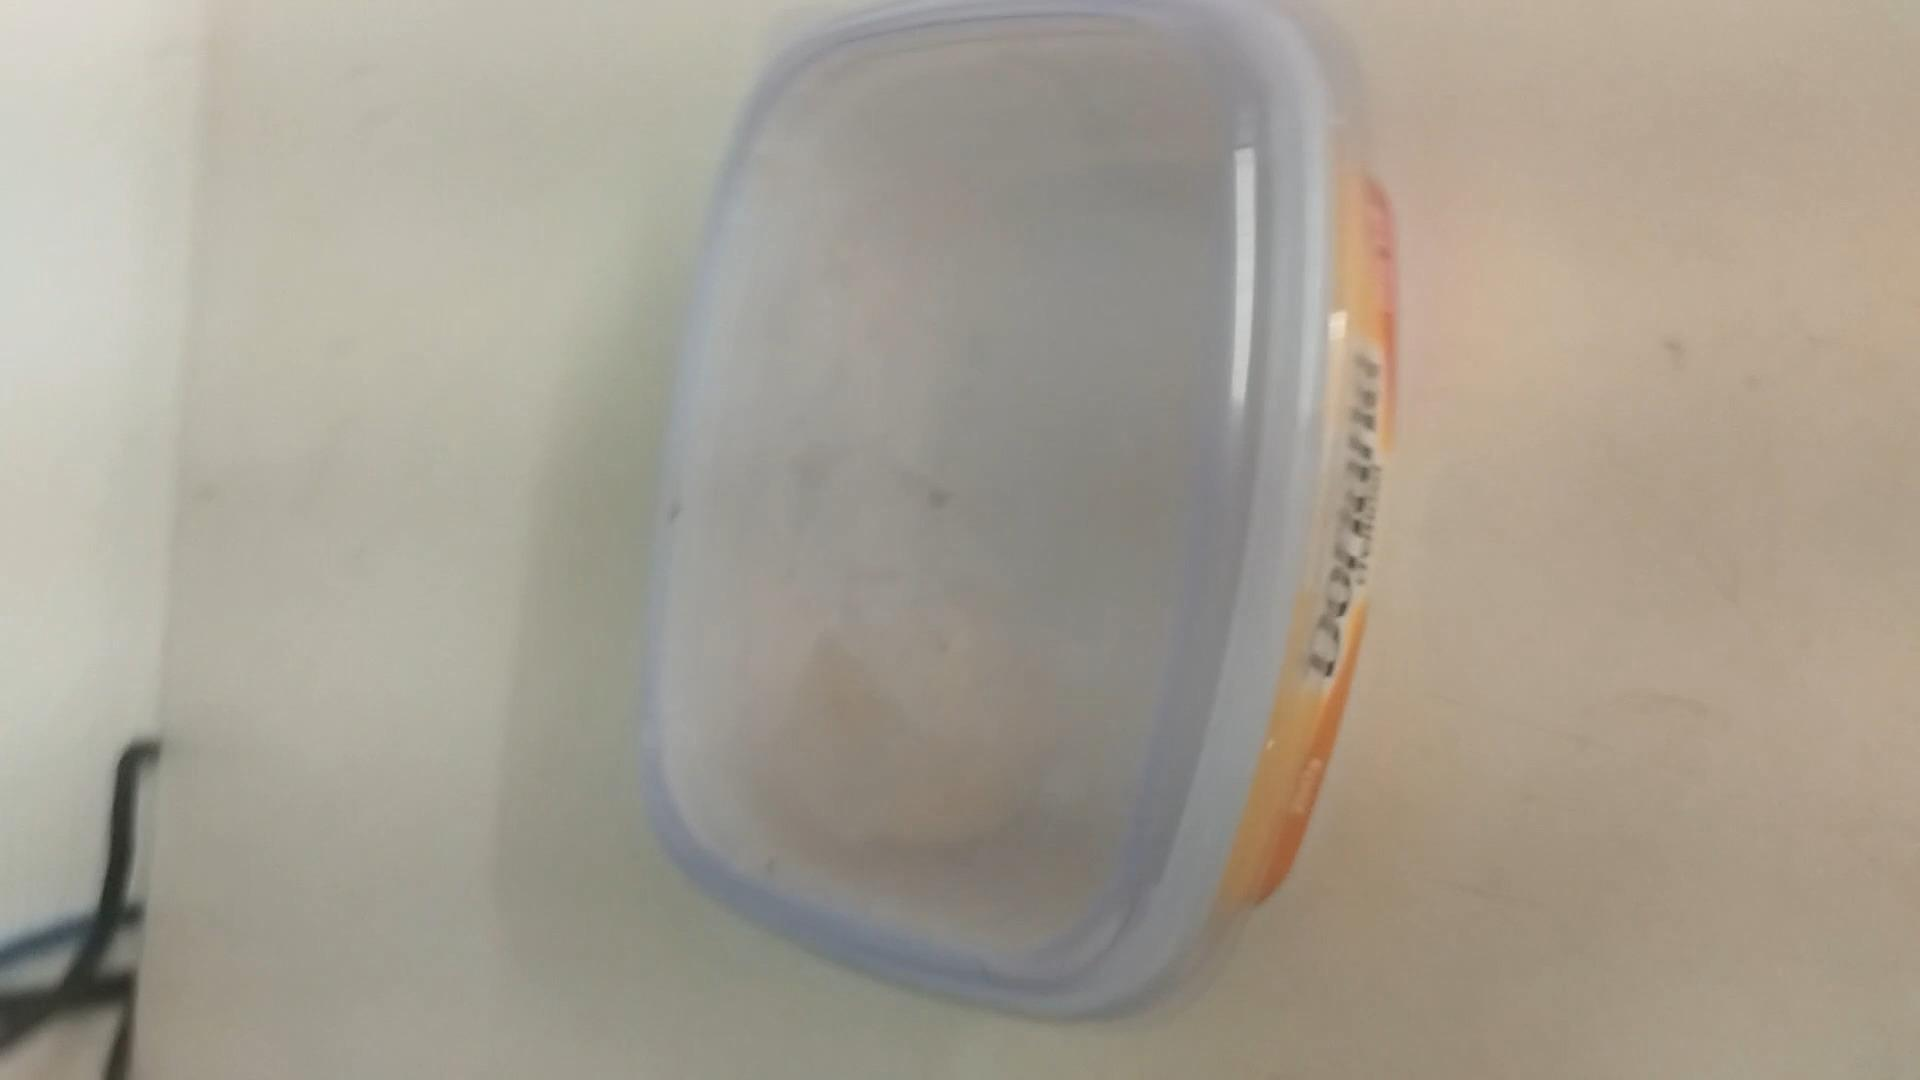butter: (636, 8, 1369, 1034)
